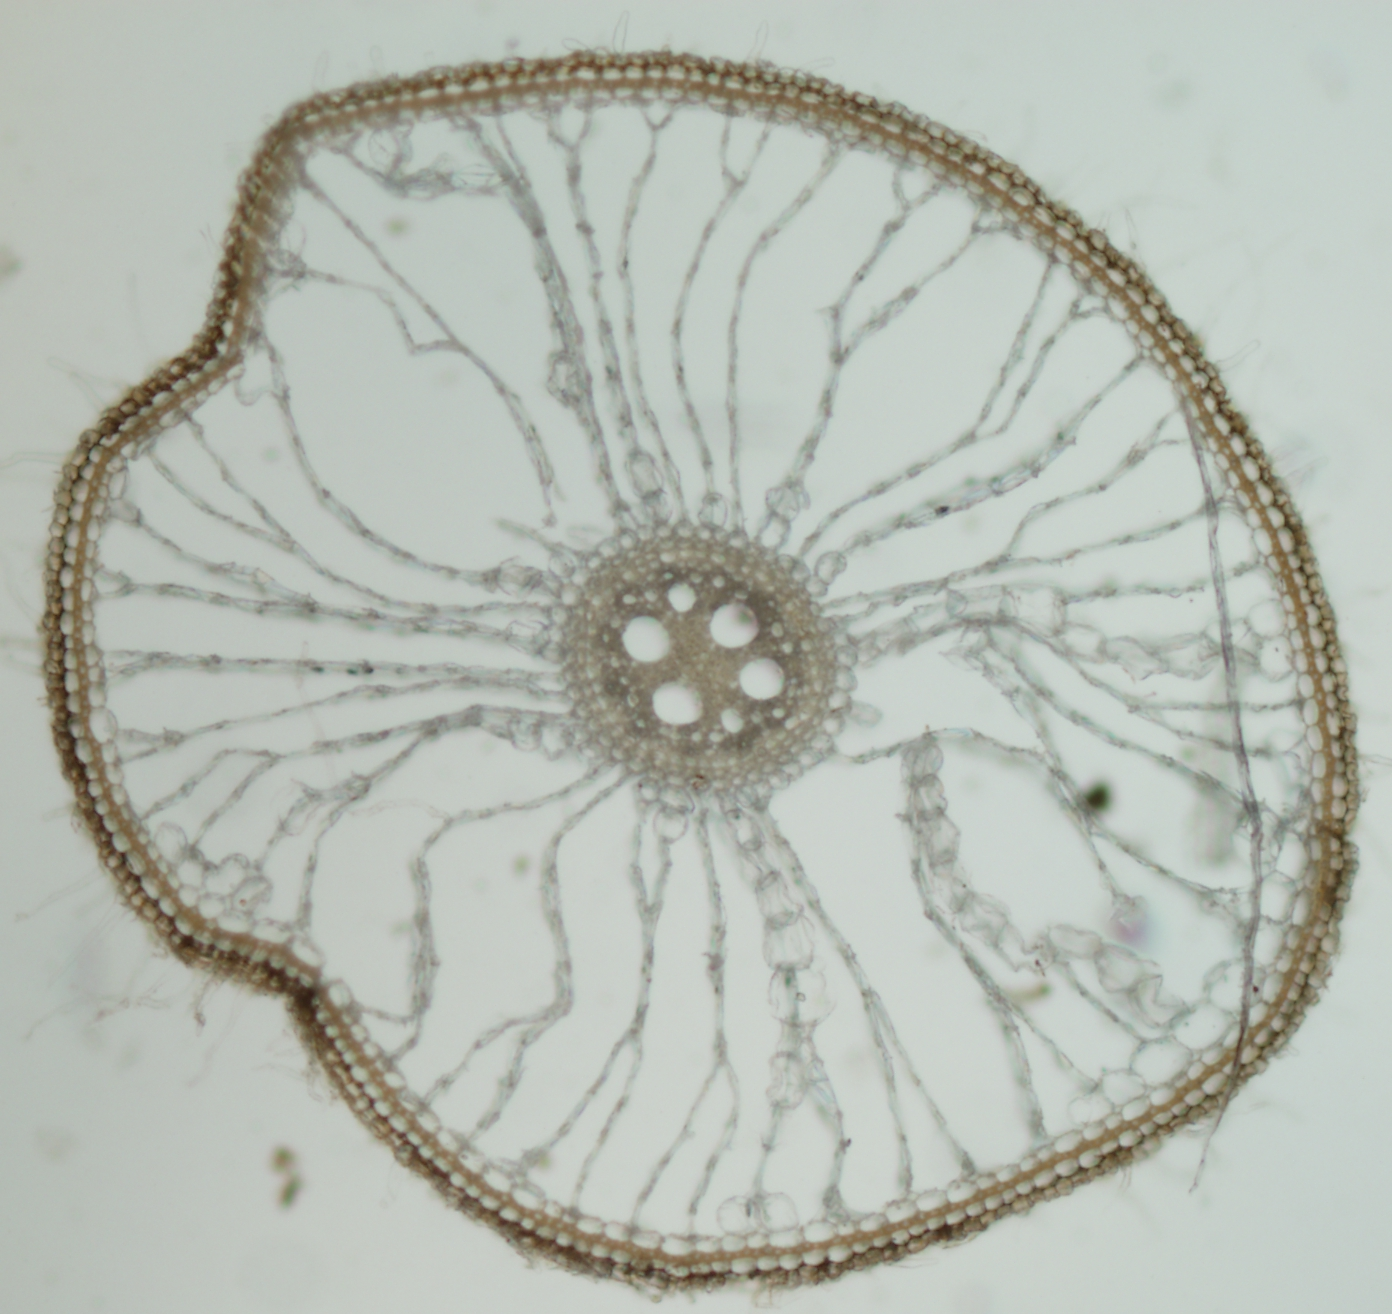lm: (623, 616, 671, 663), (710, 603, 758, 648), (652, 680, 703, 724), (740, 657, 784, 700), (669, 582, 697, 613), (720, 706, 744, 732)
